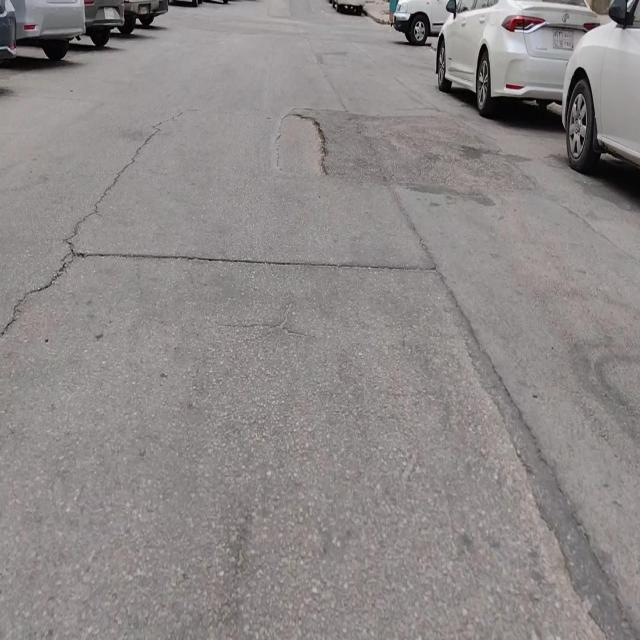Pothole: (275, 113, 329, 176)
